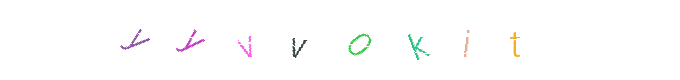0: (307, 0, 387, 80)
I: (347, 0, 427, 80)
K: (334, 0, 414, 80)
T: (475, 0, 555, 80)
V: (257, 0, 337, 80), (300, 0, 380, 80)
Y: (117, 0, 197, 80), (171, 0, 251, 80)
